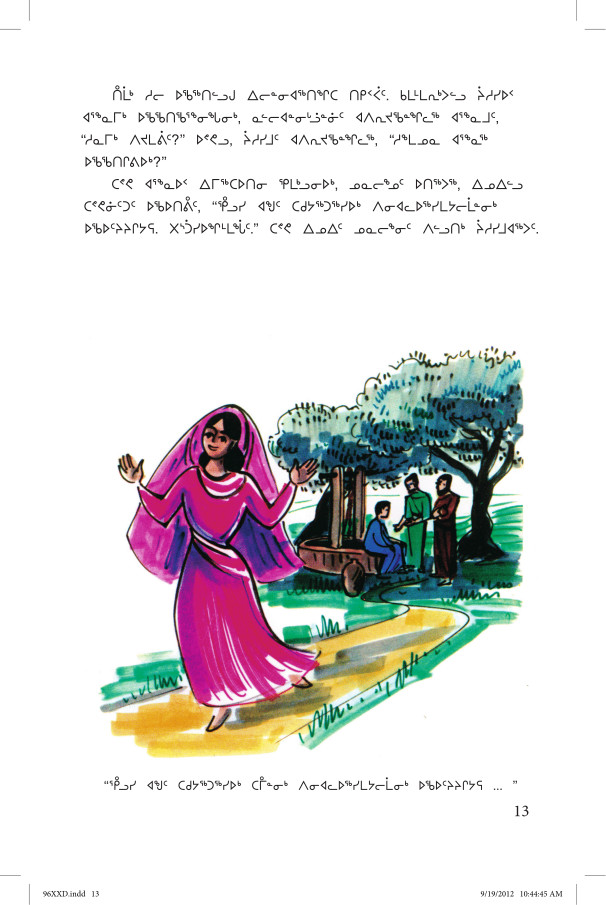inuktitut: (71, 76, 546, 242), (98, 771, 518, 794)
